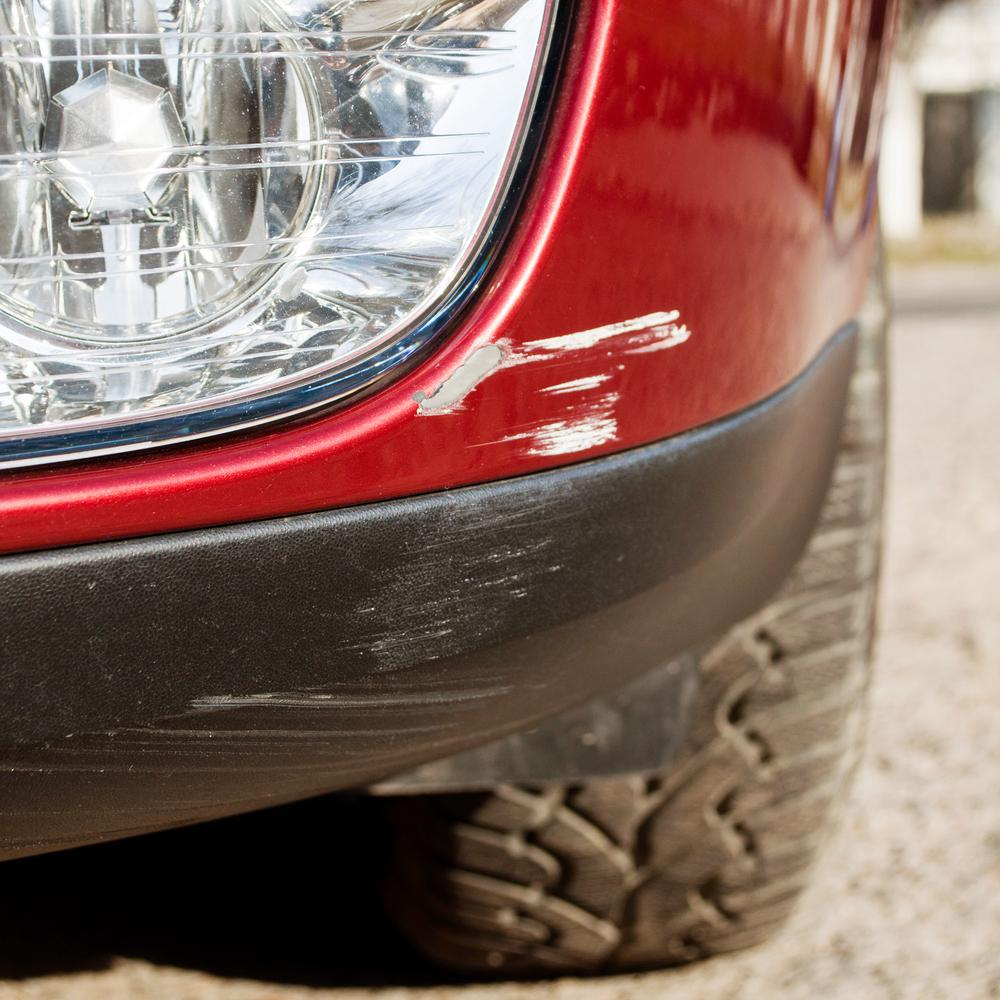scratch: (0, 474, 581, 837), (404, 306, 702, 463)
